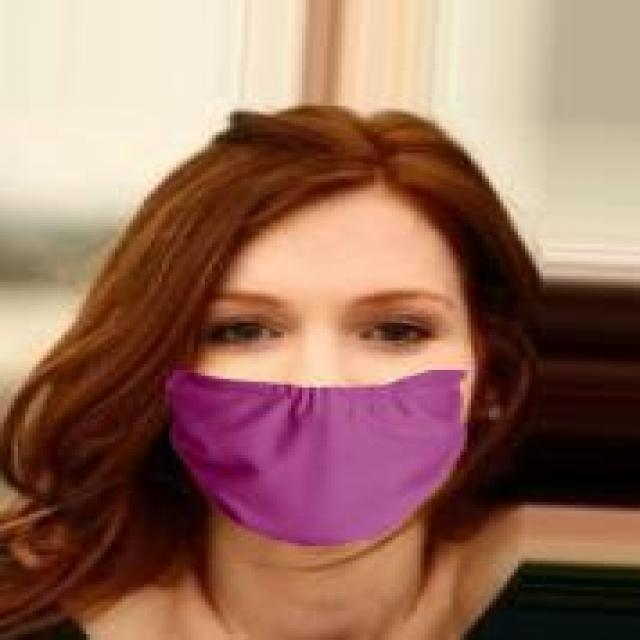mask: (100, 79, 564, 561)
